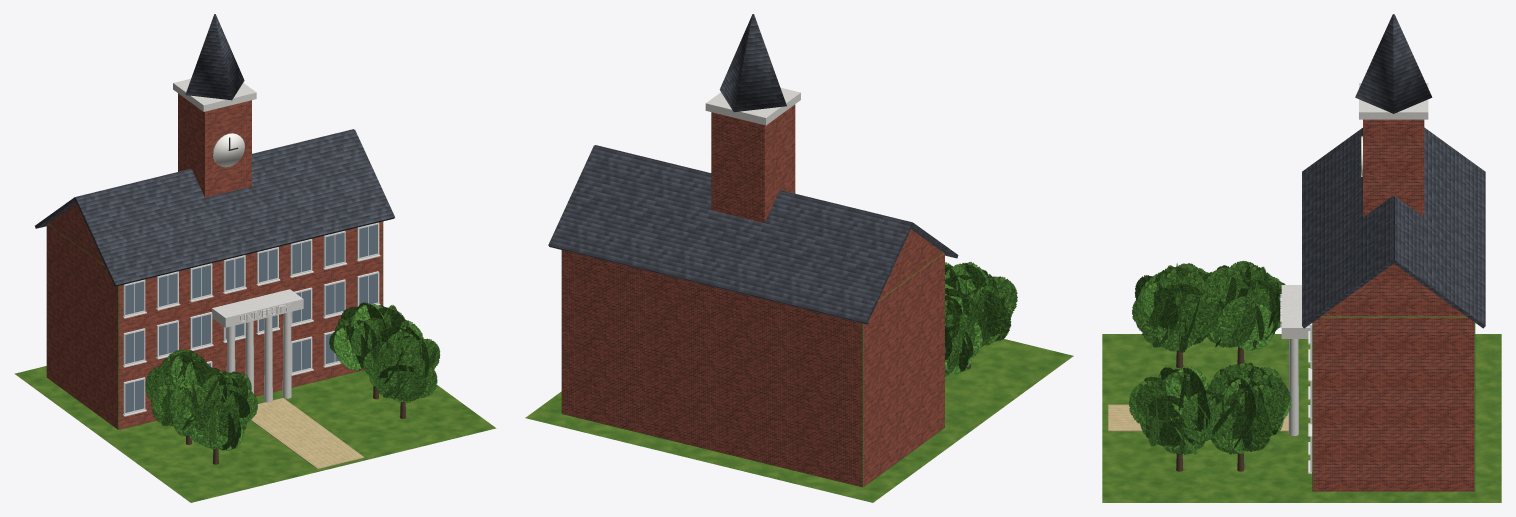
Rendered from university.gltf.
3 views of the same model, side by side, from view 1: azimuth 30°, elevation 25°; view 2: azimuth 150°, elevation 25°; view 3: azimuth 270°, elevation 25° (orthographic). The views are drawn at different scales.
Parts seen in each view (by area): view 1: university; view 2: university; view 3: university.
Part boxes in pixels (x1,y1,x2,y2): university: (14, 14, 496, 502); university: (525, 14, 1073, 502); university: (1102, 14, 1501, 502).
Bounding box in the file's own units: 3.92 × 4.38 × 3.92.
Materials: 11 (7 with a texture image).
